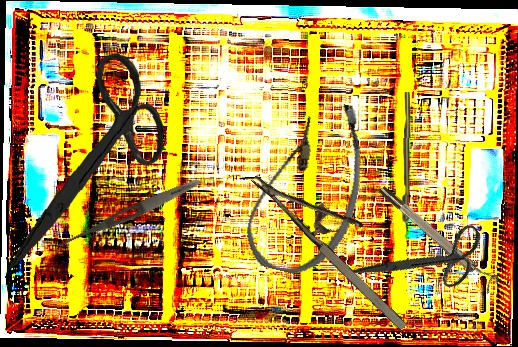Cannula: (239, 88, 378, 285)
Dressing Forceps: (56, 175, 202, 253)
Fixation Ring: (376, 179, 502, 294)
Hook Surgical: (401, 91, 412, 242)
Iris Scissors: (10, 48, 168, 276), (351, 190, 496, 332)
Needle Holder: (250, 144, 434, 336)
